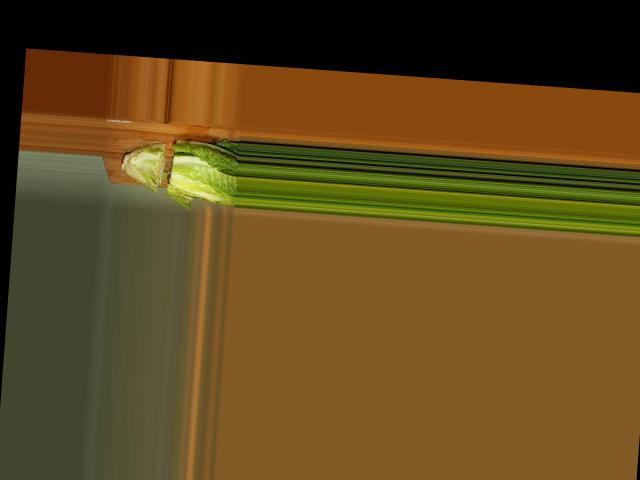lettuce: (120, 128, 238, 209)
